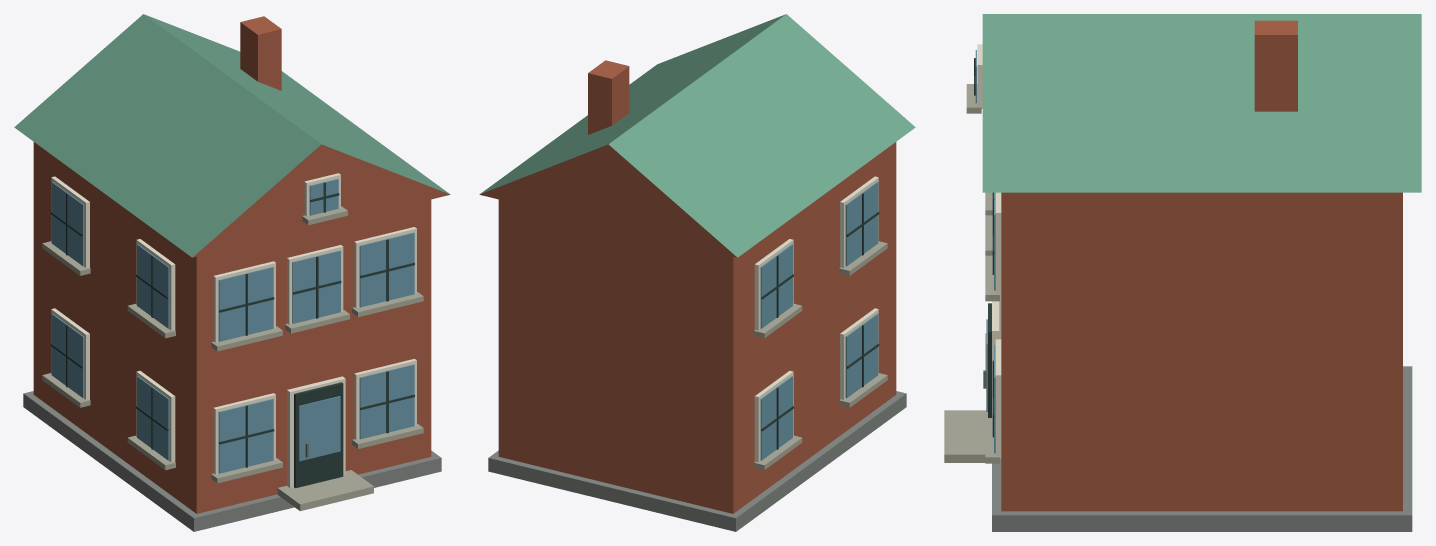
File: Townhouse.obj
3 renders of one model, left to right at view 1: azimuth 30°, elevation 25°; view 2: azimuth 150°, elevation 25°; view 3: azimuth 270°, elevation 25°, orthographic. The views are drawn at different scales.
Parts seen in each view (by area): view 1: Townhouse; view 2: Townhouse; view 3: Townhouse.
Boxes of the visible parts, x1,y1,x2,y2 form: Townhouse: (14, 14, 450, 531); Townhouse: (479, 14, 915, 531); Townhouse: (944, 14, 1421, 531).
Bounding box in the file's own units: 5.95 × 8.3 × 7.72.
